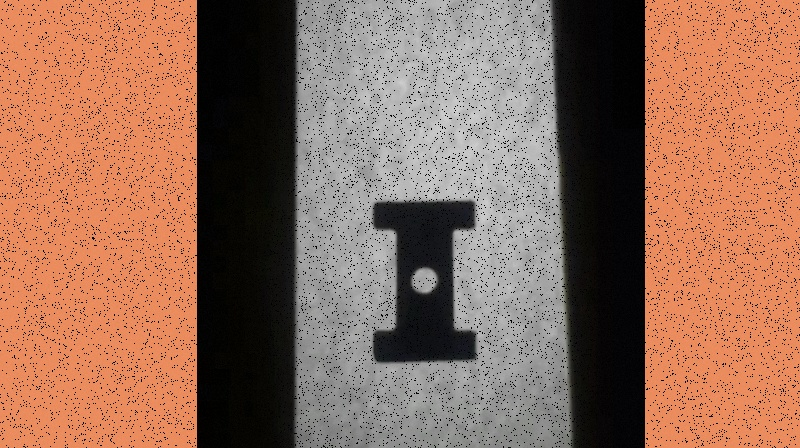O002: (369, 194, 481, 367)
